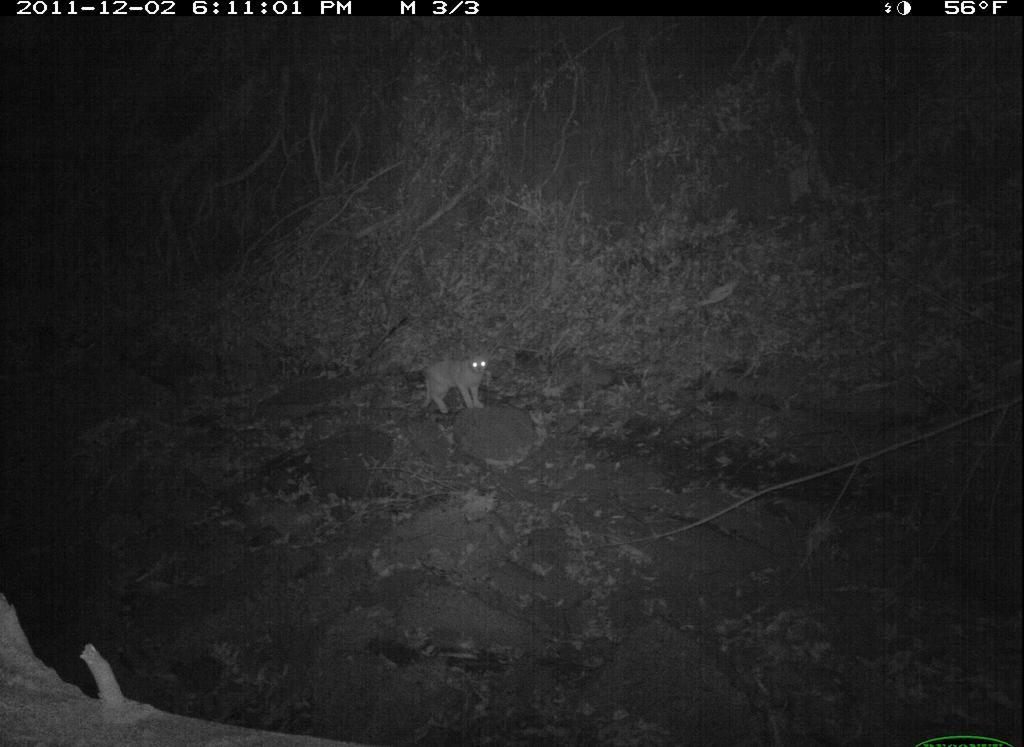cat: (398, 343, 516, 420)
